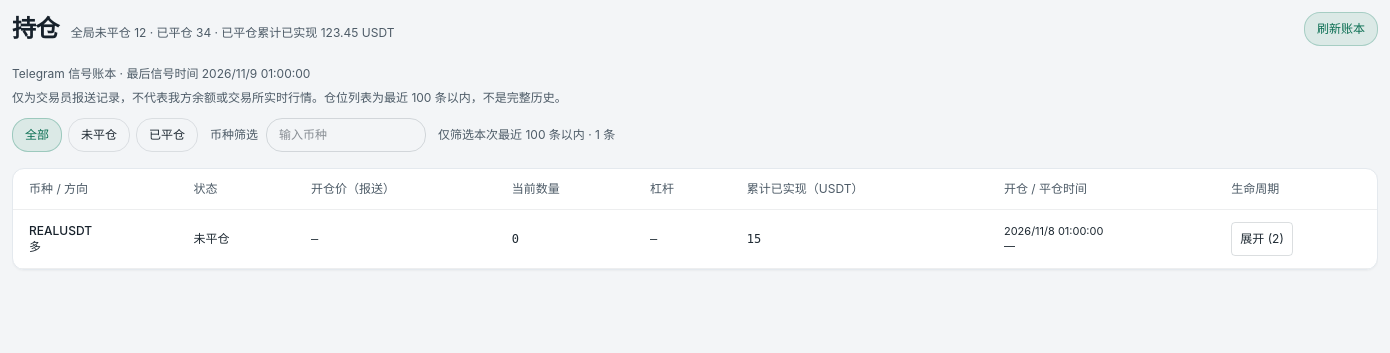
Test case: shared ledger › keeps the previous snapshot visibly stale on refresh error
Expected: the text "全局未平仓 12 · 已平仓 34 · 已平仓累计已实现 123.45 USDT" is shown, [71, 25, 394, 41]
Click the button "刷新账本".
click(1341, 29)  # box [1304, 12, 1378, 46]
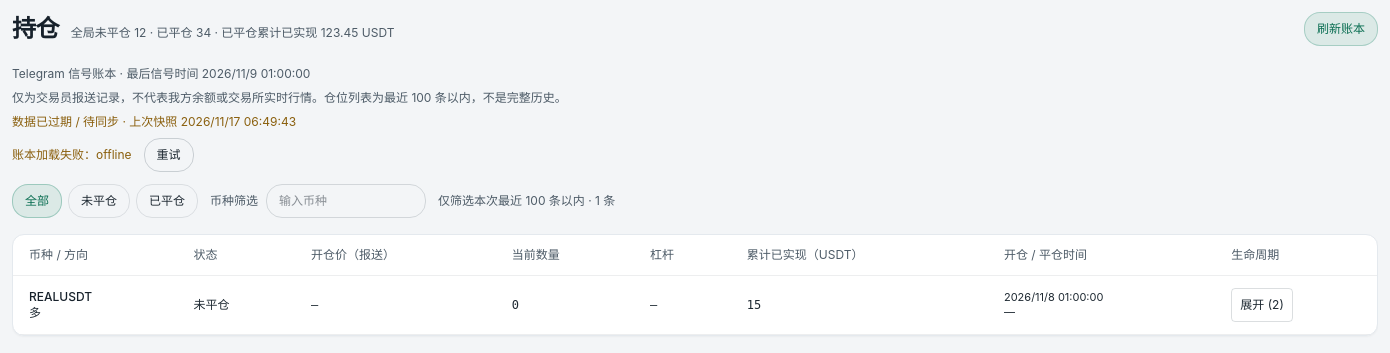
Expected: the text "全局未平仓 12 · 已平仓 34 · 已平仓累计已实现 123.45 USDT" is shown, [71, 25, 394, 41]
Now the text "数据已过期 / 待同步 · 上次快照 2026/11/17 06:49:43" is shown, box [12, 114, 296, 129]
